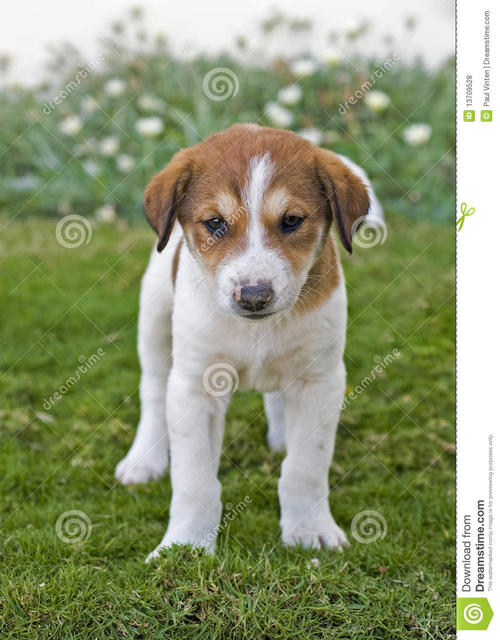dog: (114, 122, 372, 567)
